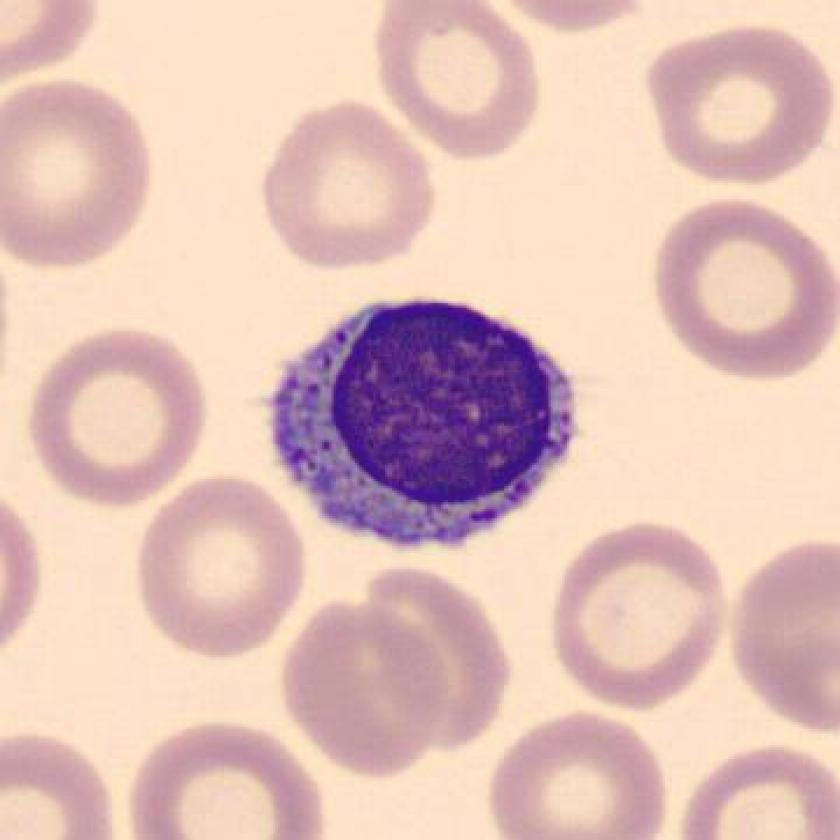lymphocyte: (246, 284, 598, 564)
